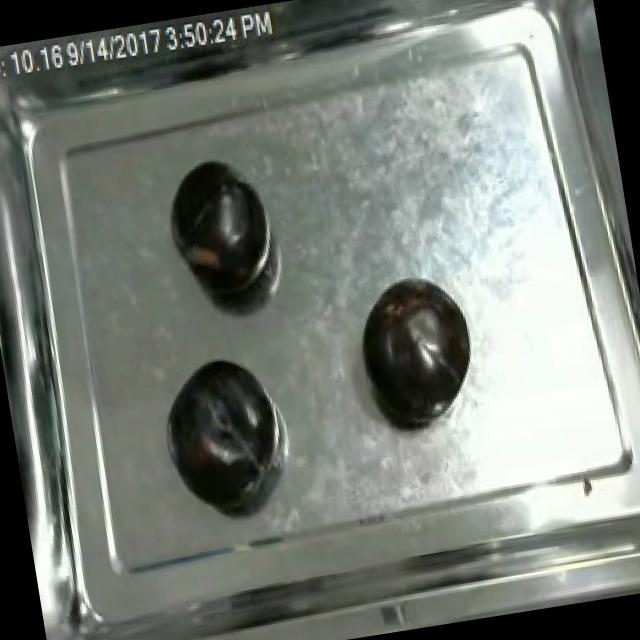Fruit: (346, 268, 486, 438), (156, 348, 290, 516), (159, 158, 275, 306)
